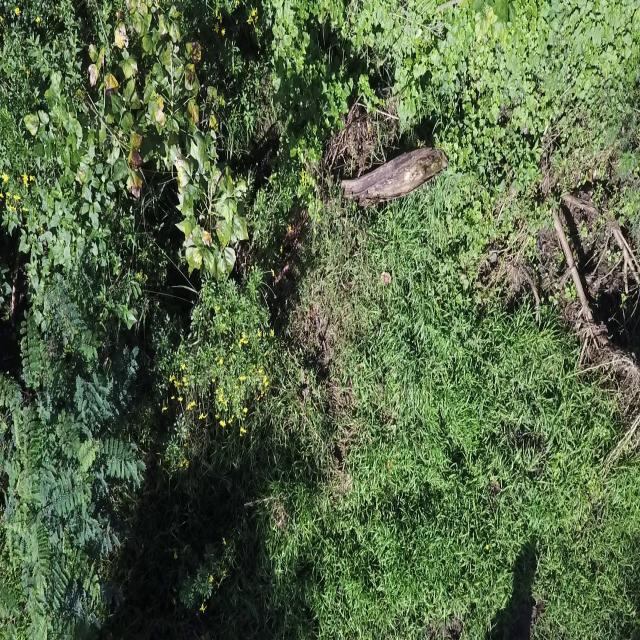Mysore-Thorn-Weed: (5, 274, 149, 640)
